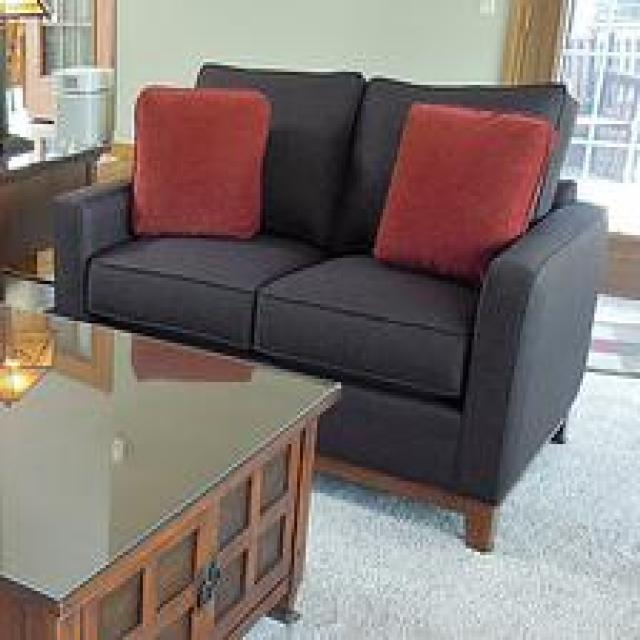sofa: (51, 62, 607, 558)
